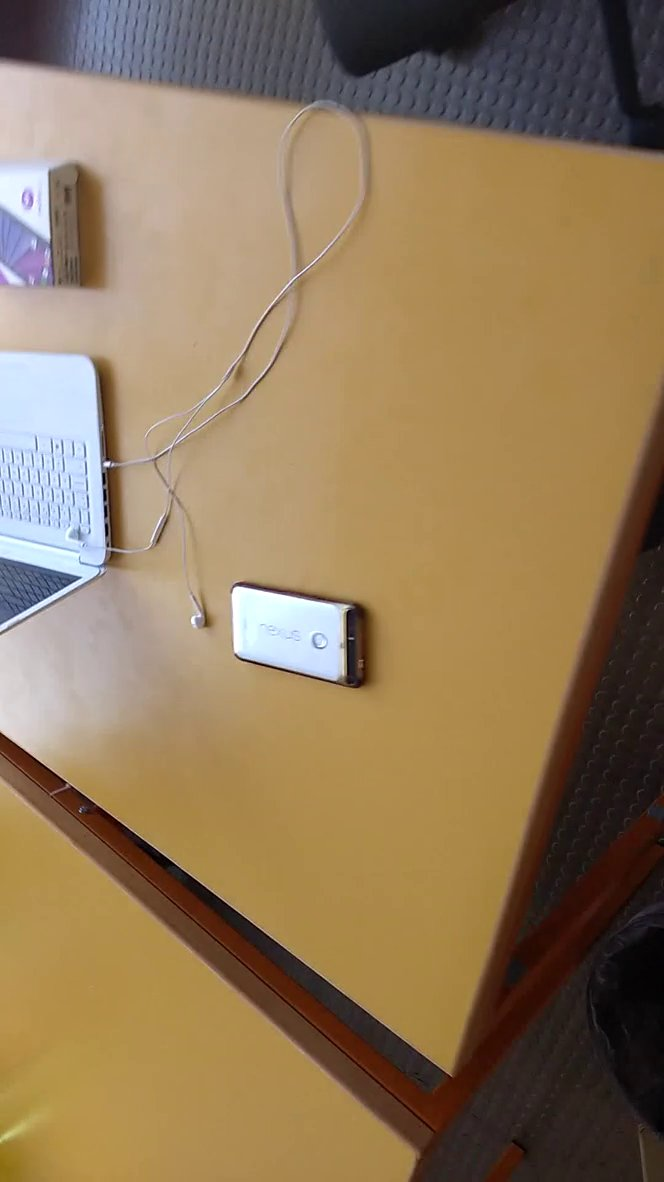phone: (221, 568, 392, 695)
